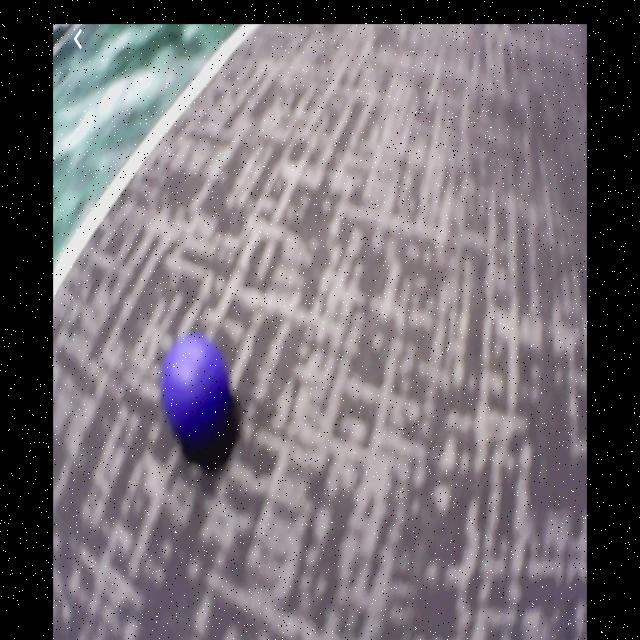ball: (163, 337, 232, 455)
